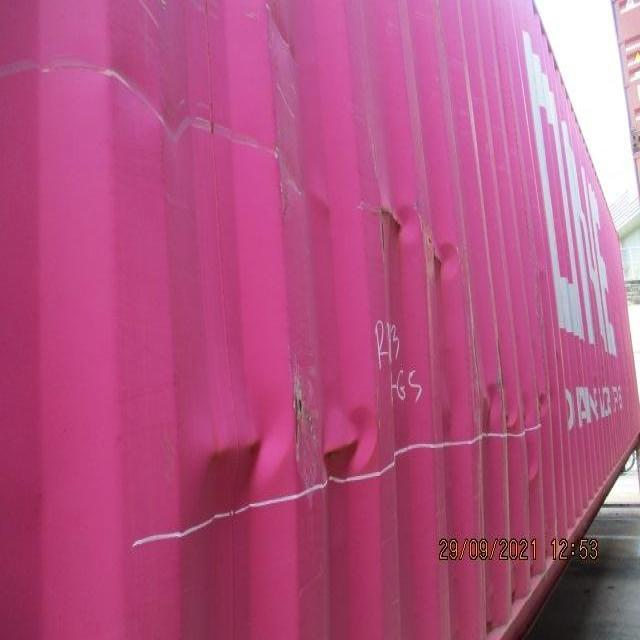dent: (168, 387, 383, 516), (363, 188, 468, 294), (472, 376, 554, 441)
